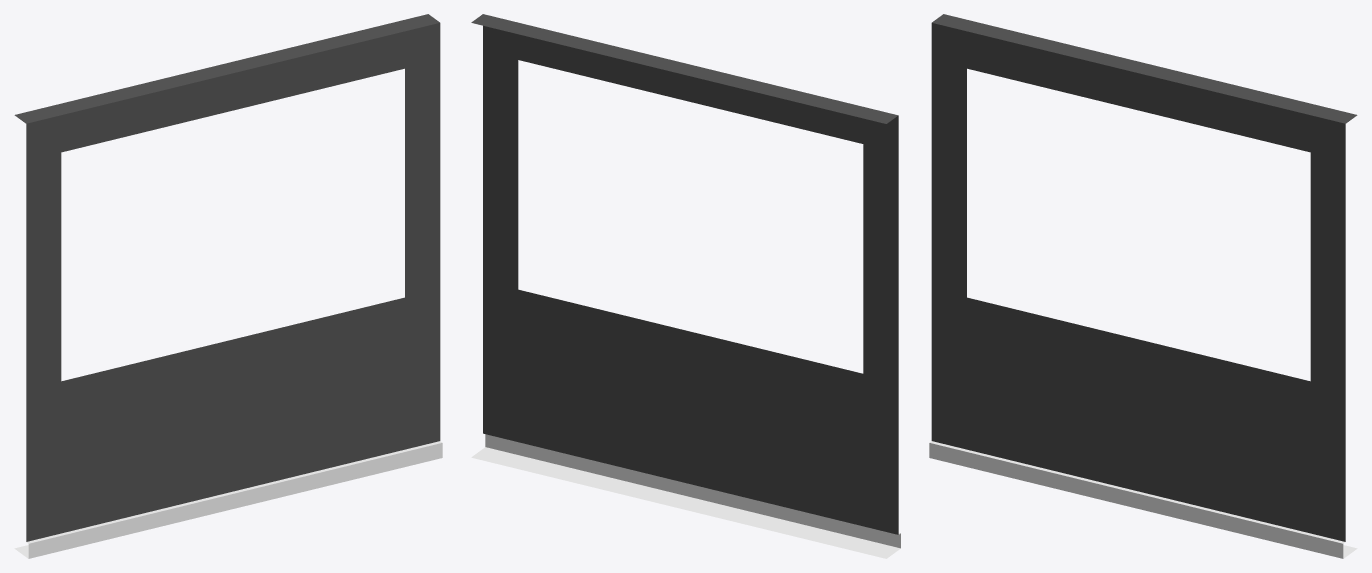
Rendered from Int-V2WindowframeGray.fbx.
The picture shows the model from 3 angles, left to right: view 1: azimuth 30°, elevation 25°; view 2: azimuth 150°, elevation 25°; view 3: azimuth 330°, elevation 25°; orthographic projection.
Parts seen in each view (by area): view 1: Int-V2WindowframeGray; view 2: Int-V2WindowframeGray; view 3: Int-V2WindowframeGray.
Boxes of the visible parts, x1,y1,x2,y2 form: Int-V2WindowframeGray: (14,14,442,558); Int-V2WindowframeGray: (471,14,900,558); Int-V2WindowframeGray: (929,14,1357,558).
Size of the model in its own units: 200 by 200 by 12.
